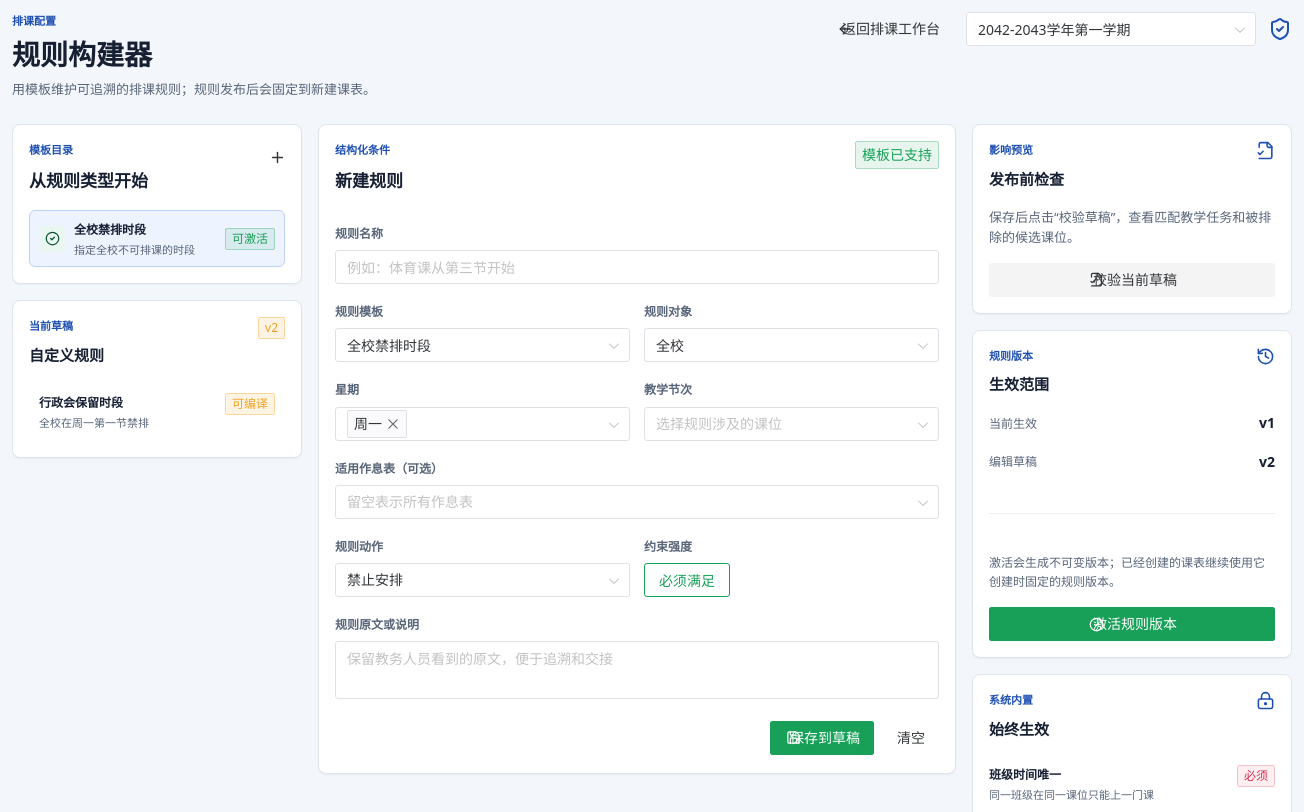
Scenario: SchedulingSettings rule editor › loads the versioned workspace and reports validation impact
What coordinates should you click on to do the following:
click the button with test id "rule-validate"
I would click on:
 (1132, 280)
Its box is [989,263,1275,297].
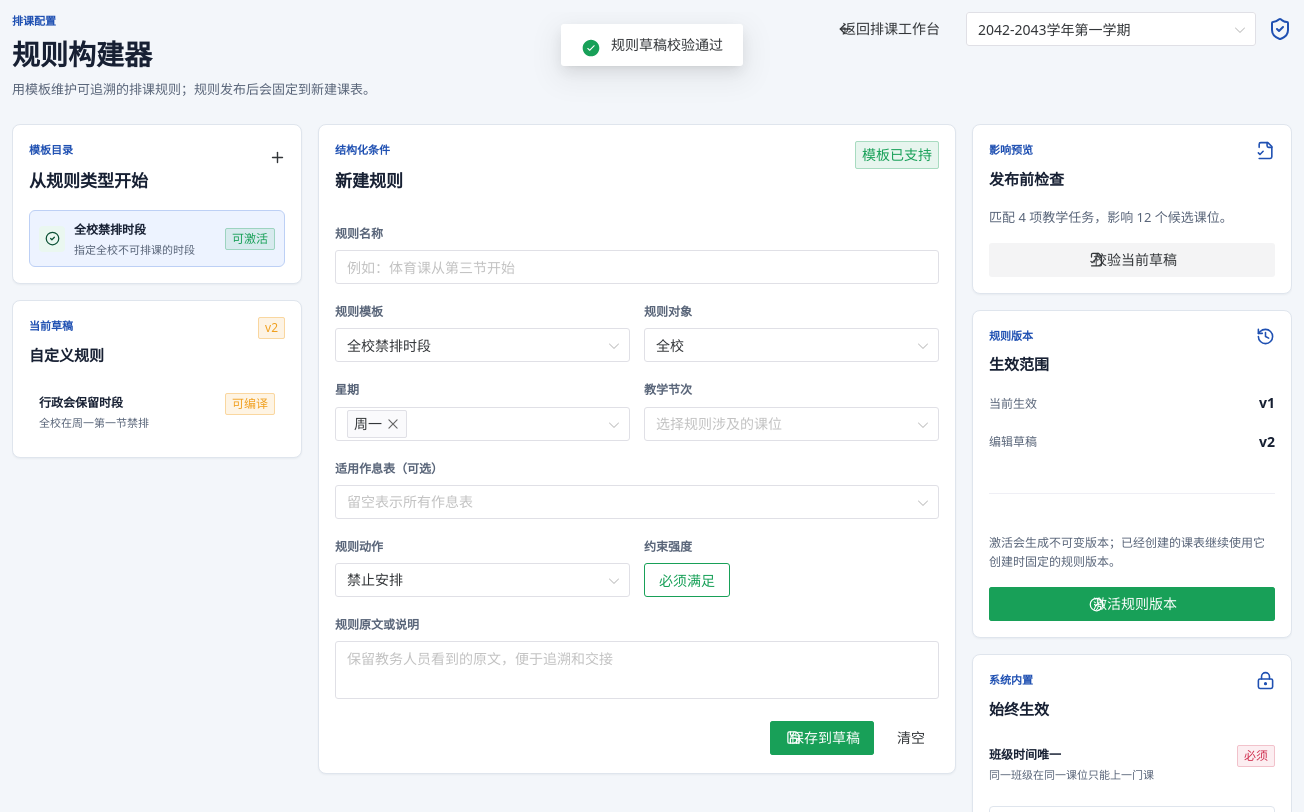
expect the text "匹配 4 项教学任务，影响 12 个候选课位" is shown: met, box [989,208,1233,226]
